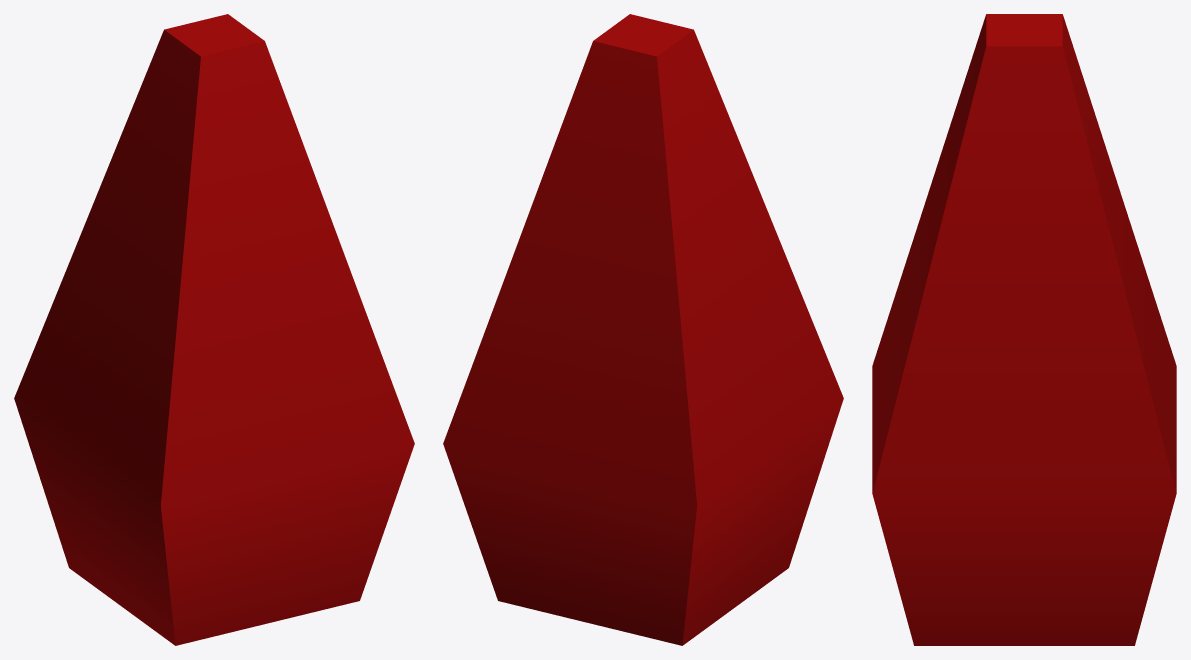
Rendered from SM_Env_Bush_Palm_01_Collision.glb.
3 views of the same model, side by side, from view 1: azimuth 30°, elevation 25°; view 2: azimuth 150°, elevation 25°; view 3: azimuth 270°, elevation 25° (orthographic). The views are drawn at different scales.
Visible parts, largest first — view 1: SM_Env_Bush_Palm_01_Collision; view 2: SM_Env_Bush_Palm_01_Collision; view 3: SM_Env_Bush_Palm_01_Collision.
Part boxes in pixels (x1=…): SM_Env_Bush_Palm_01_Collision: x1=14, y1=14, x2=414, y2=645; SM_Env_Bush_Palm_01_Collision: x1=443, y1=14, x2=843, y2=645; SM_Env_Bush_Palm_01_Collision: x1=872, y1=14, x2=1176, y2=645.
Bounding box in the file's own units: 0.5811 × 1.2 × 0.5811.
